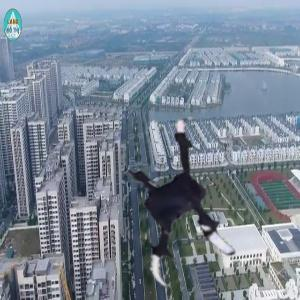drone: (102, 120, 279, 297)
